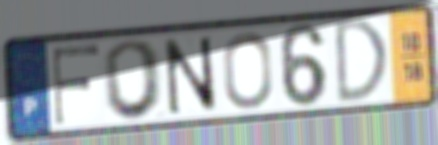6: (277, 21, 331, 110)
D: (333, 16, 391, 108)
F: (50, 41, 102, 128)
N: (161, 34, 221, 117)
O: (102, 37, 166, 123), (220, 29, 275, 112)
